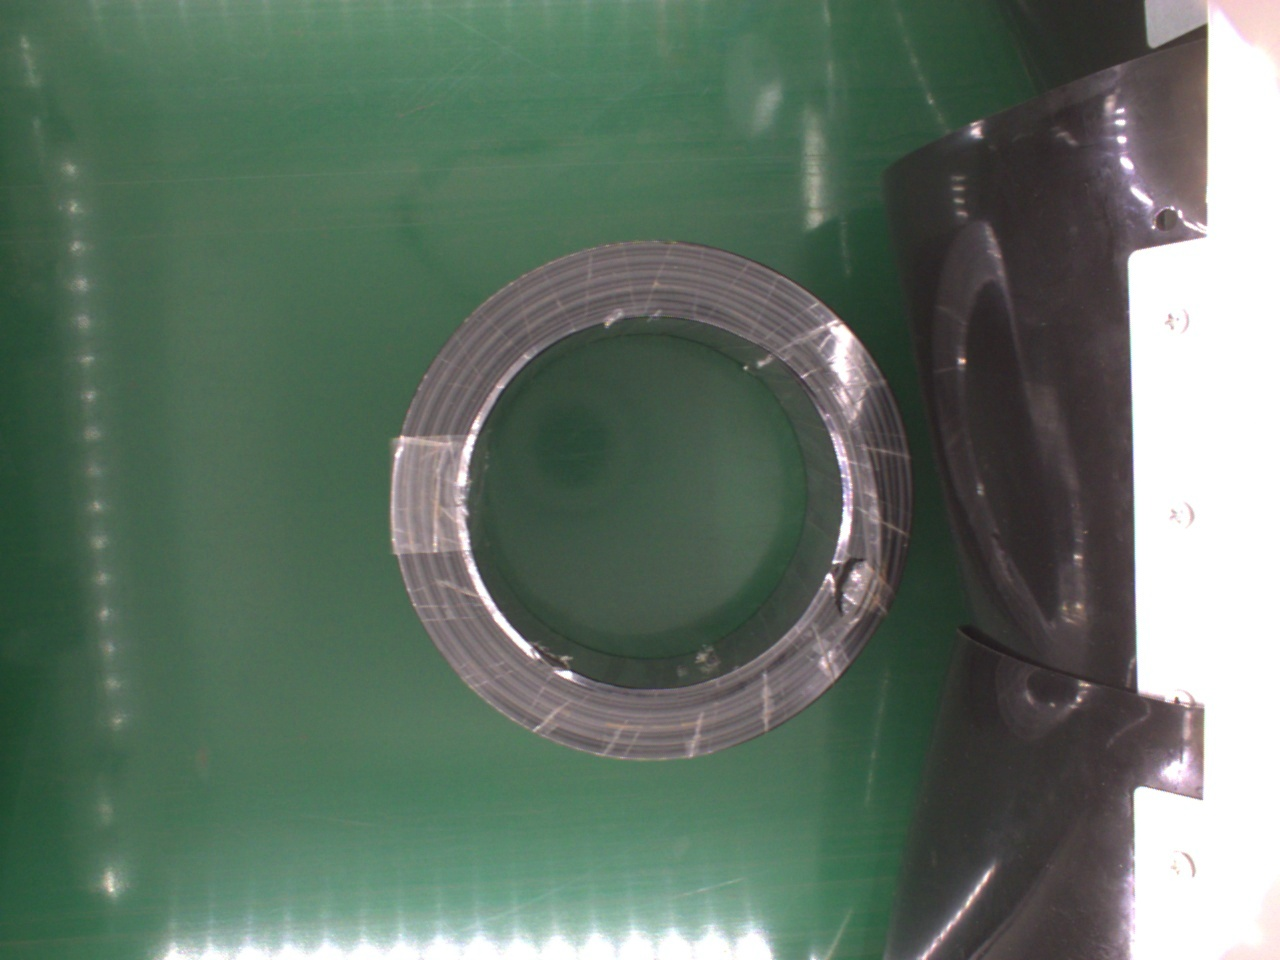black: (396, 235, 914, 763)
